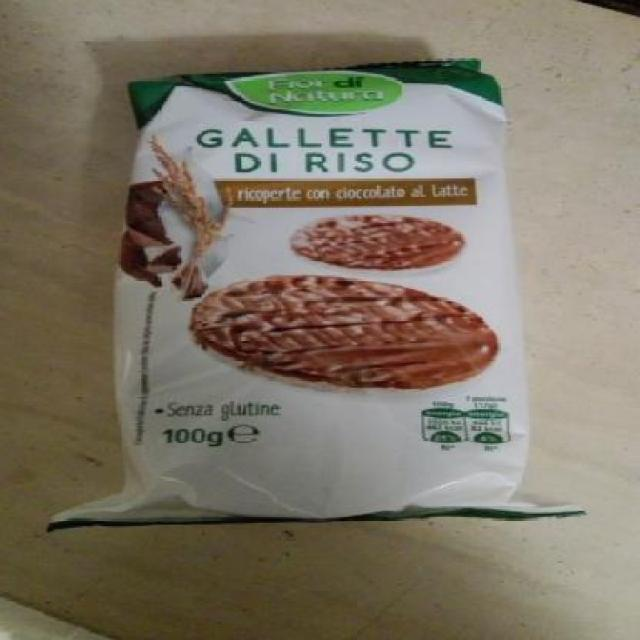Gallette di riso: (75, 66, 588, 542)
